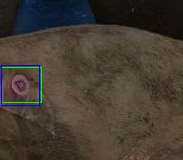text: (1, 67, 41, 102)
